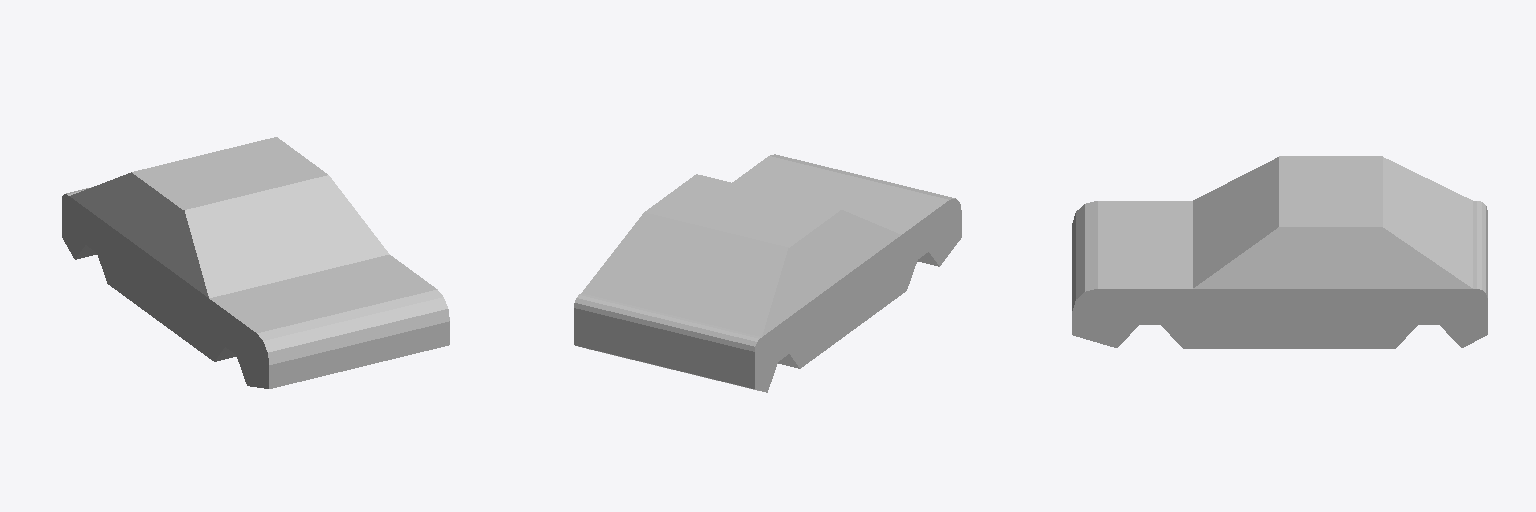
The model's file is car2.obj.
The picture shows the model from 3 angles: view 1: azimuth 30°, elevation 25°; view 2: azimuth 150°, elevation 25°; view 3: azimuth 270°, elevation 25°; orthographic projection.
Parts seen in each view (by area): view 1: Cube_Cube.002, Cube.005; view 2: Cube_Cube.002, Cube.005; view 3: Cube_Cube.002.
Part boxes in pixels (x1,y1,x2,y2): Cube_Cube.002: (62, 137, 449, 388); Cube.005: (74, 137, 322, 360); Cube_Cube.002: (574, 154, 961, 392); Cube.005: (649, 174, 906, 368); Cube_Cube.002: (1072, 157, 1487, 348).
Size of the model in its own units: 2 by 1.35 by 3.98.